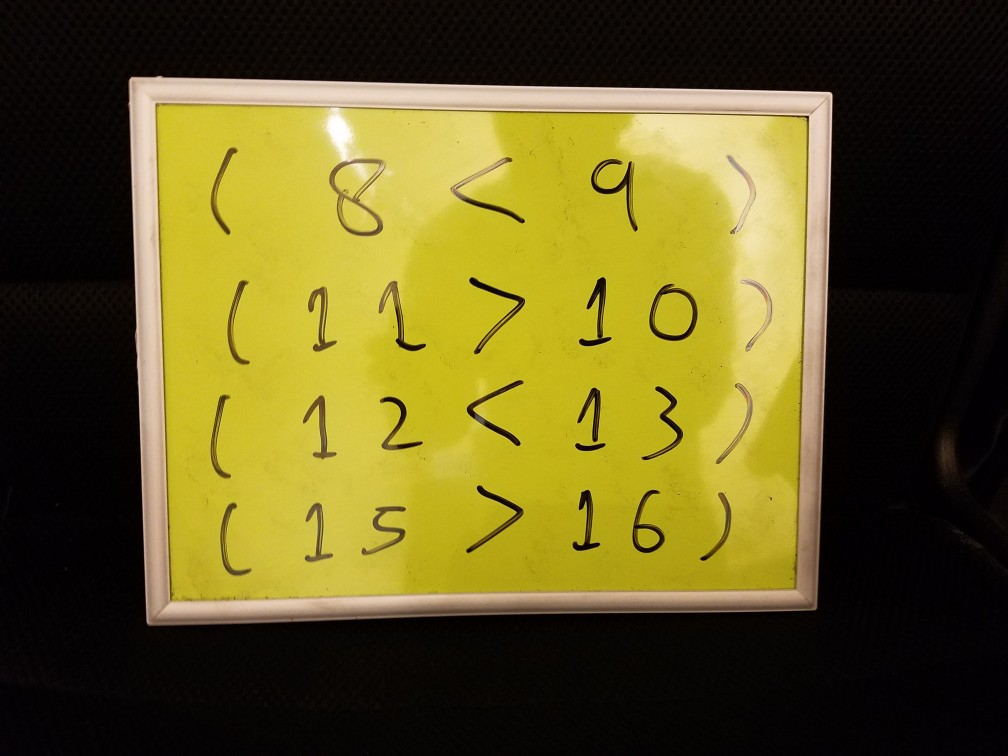(: (197, 138, 247, 242), (211, 269, 258, 371), (199, 389, 242, 489), (211, 497, 253, 582)
): (712, 141, 768, 246), (733, 265, 779, 360), (712, 375, 757, 469), (699, 483, 741, 569)
0: (642, 275, 701, 347)
1: (366, 276, 434, 360), (293, 273, 344, 362), (295, 389, 342, 469), (570, 383, 616, 463), (295, 494, 339, 576), (575, 274, 620, 354), (569, 479, 609, 559)
2: (368, 388, 428, 460)
3: (635, 376, 693, 464)
5: (358, 498, 417, 566)
6: (628, 481, 670, 560)
8: (322, 150, 391, 246)
9: (579, 145, 647, 240)
<: (440, 141, 532, 230), (456, 376, 534, 453)
>: (454, 475, 528, 556), (460, 268, 529, 353)
